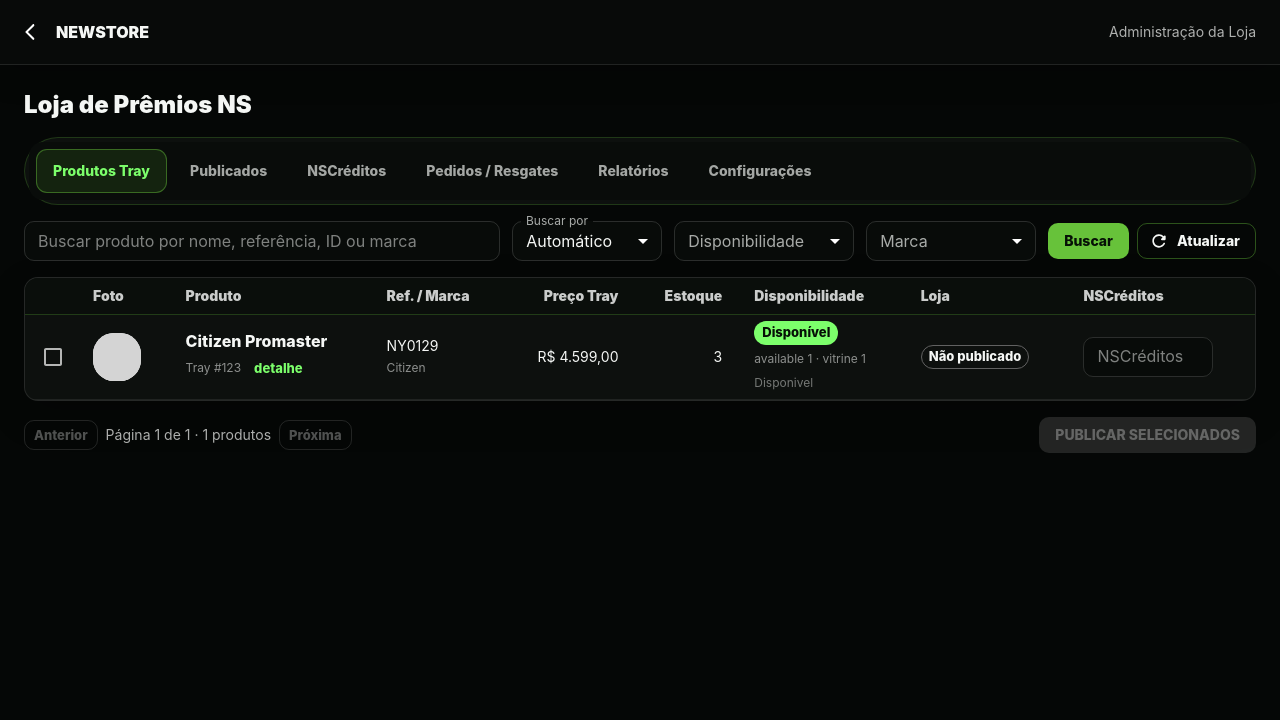
aba Produtos Tray › não publica quando os NSCréditos não são inteiro positivo
The width and height of the screenshot is (1280, 720).
Expected: the text "Citizen Promaster" is shown, x1=186 y1=330 x2=327 y2=350
Click the checkbox.
click(53, 357)  # box x1=41 y1=345 x2=65 y2=369
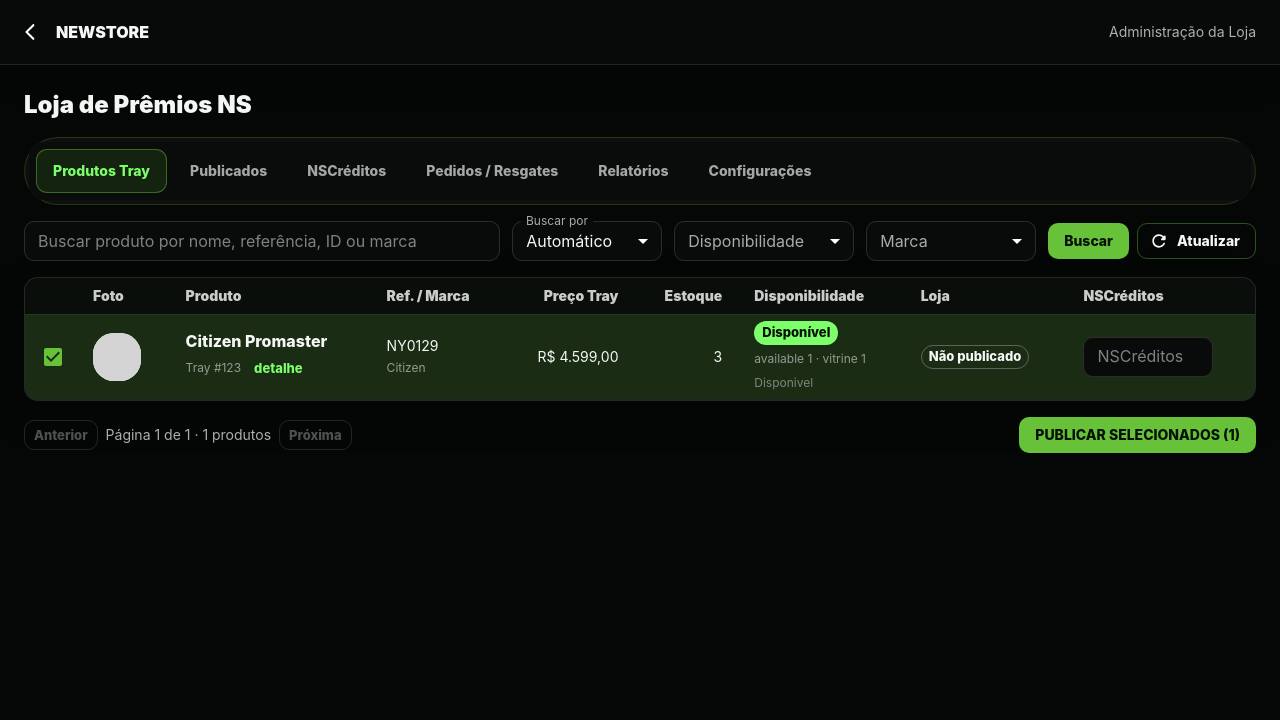
Click the button "PUBLICAR SELECIONADOS (1)".
click(1138, 435)  # box x1=1019 y1=417 x2=1256 y2=453
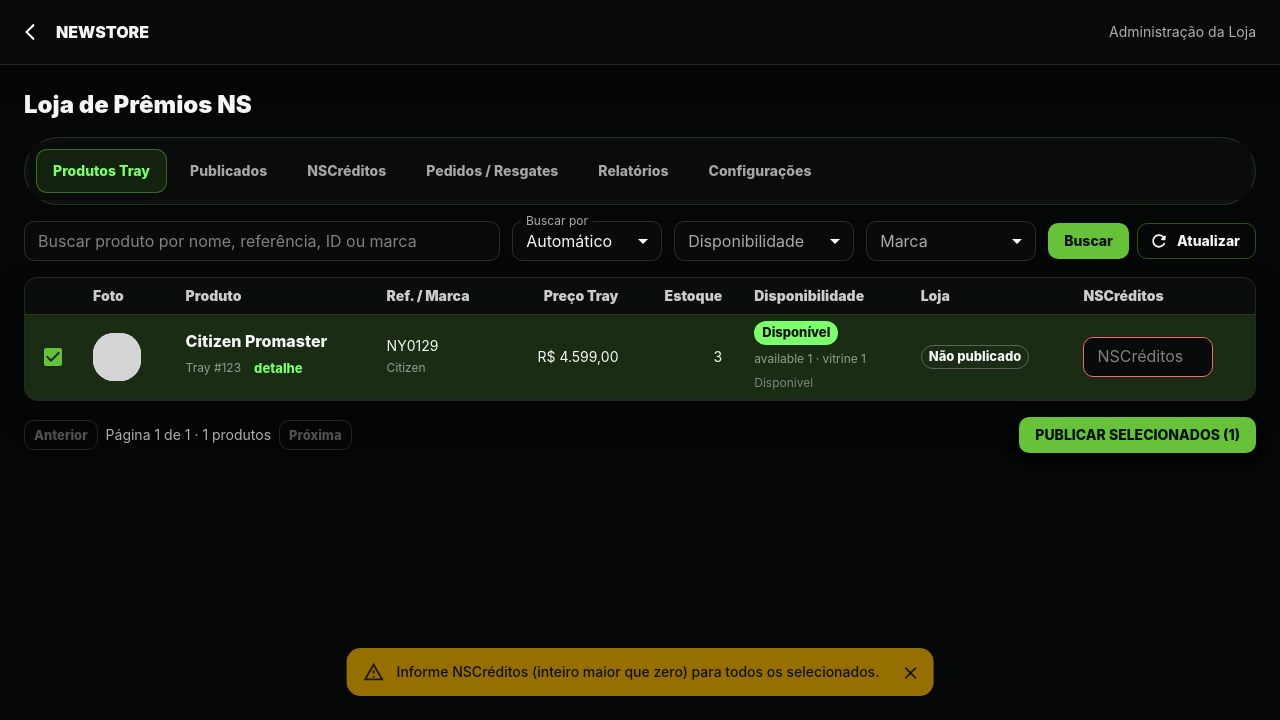
Result: the text "inteiro maior que zero" is shown at x1=397 y1=663 x2=879 y2=680
